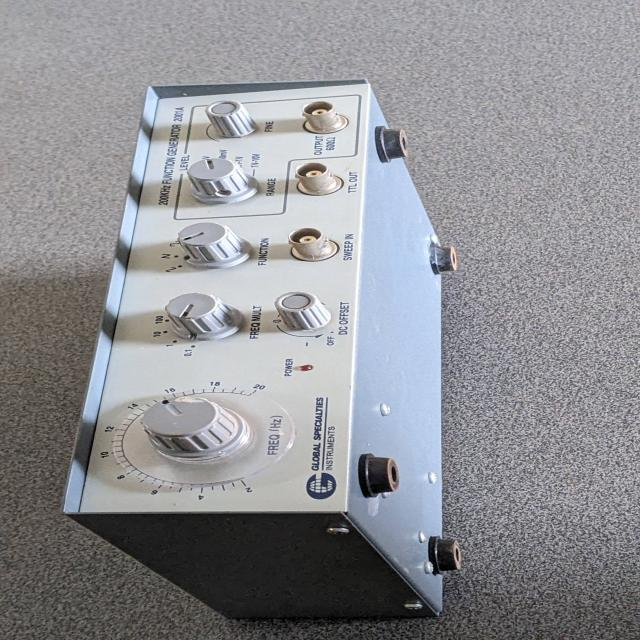A 200KHZ Function Generator: (44, 67, 468, 616)
